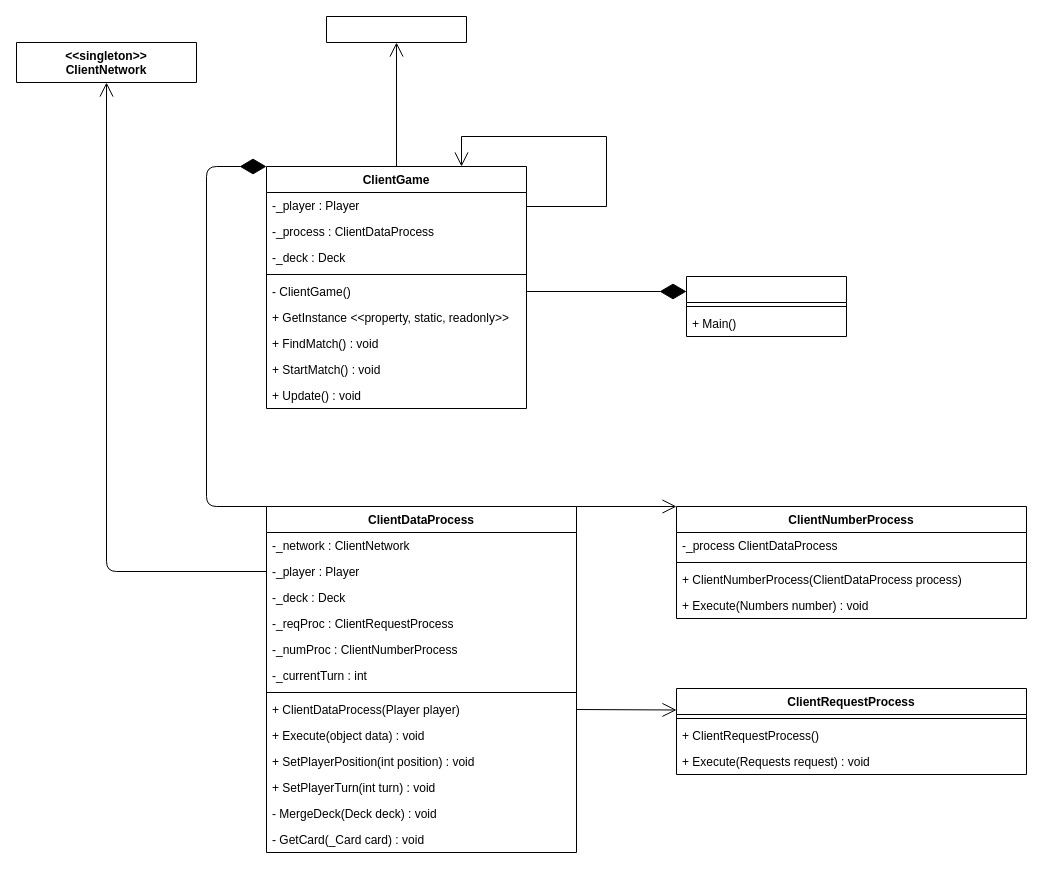
Some shapes in this 1043 by 869 pixel diagram are drawn without their labels. The box of each missing label's shape, as (x1, y1, x2, y2) in pixels:
ClientProgram: (686, 276, 846, 336)
Player: (326, 16, 466, 42)
